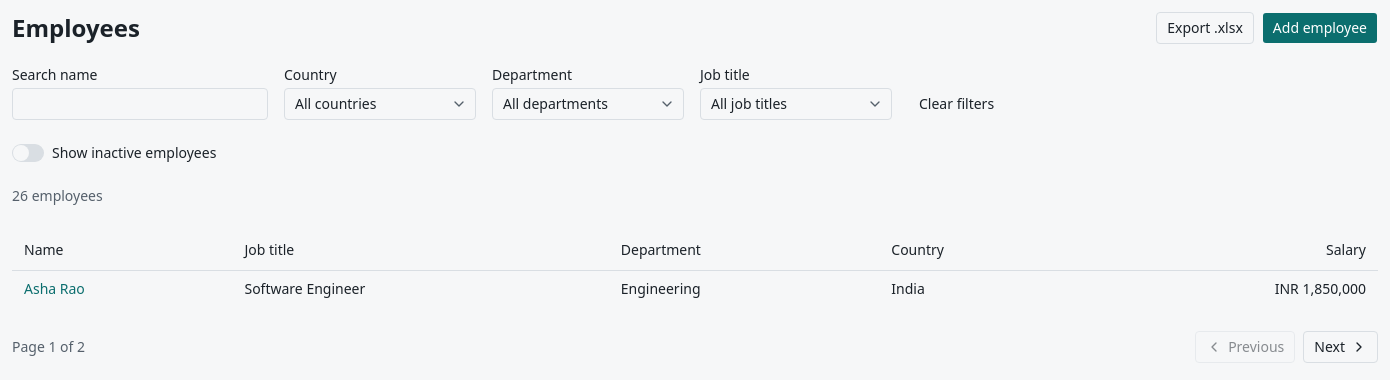
EmployeeListPage › requests the second page when Next is clicked and disables Next on the last page
Expected: the link "Asha Rao" is shown, [24, 279, 85, 298]
What coordinates should you click on to do the following:
click the button "Next"
I would click on:
 (1341, 347)
Its box is [1303, 331, 1378, 363].
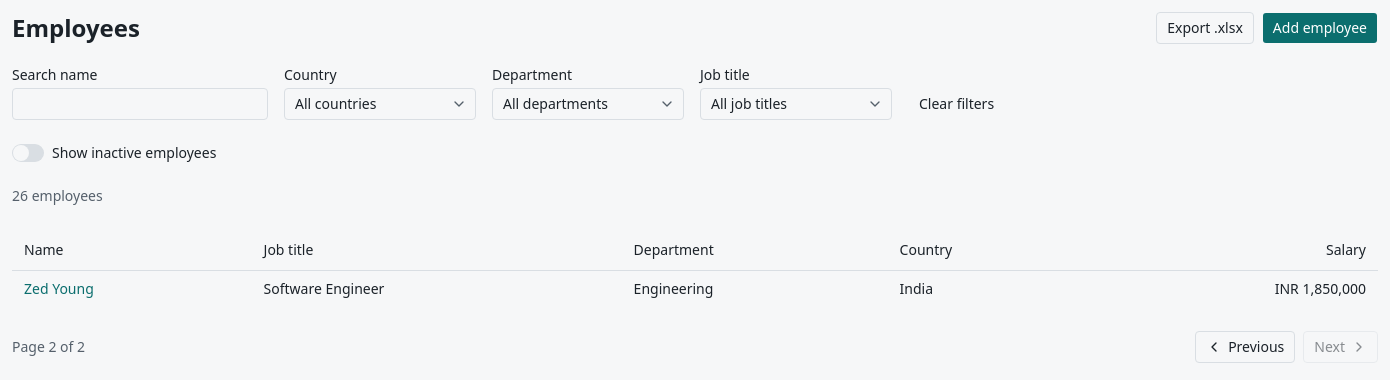
Result: the link "Zed Young" is shown at [24, 279, 94, 298]
Result: the text "Page 2 of 2" is shown at [12, 337, 85, 357]
Result: the button "Next" is disabled at [1303, 331, 1378, 363]
